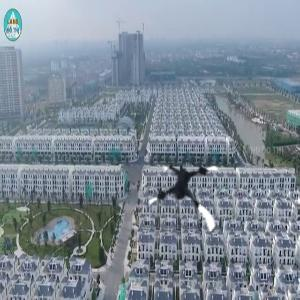drone: (144, 153, 233, 242)
